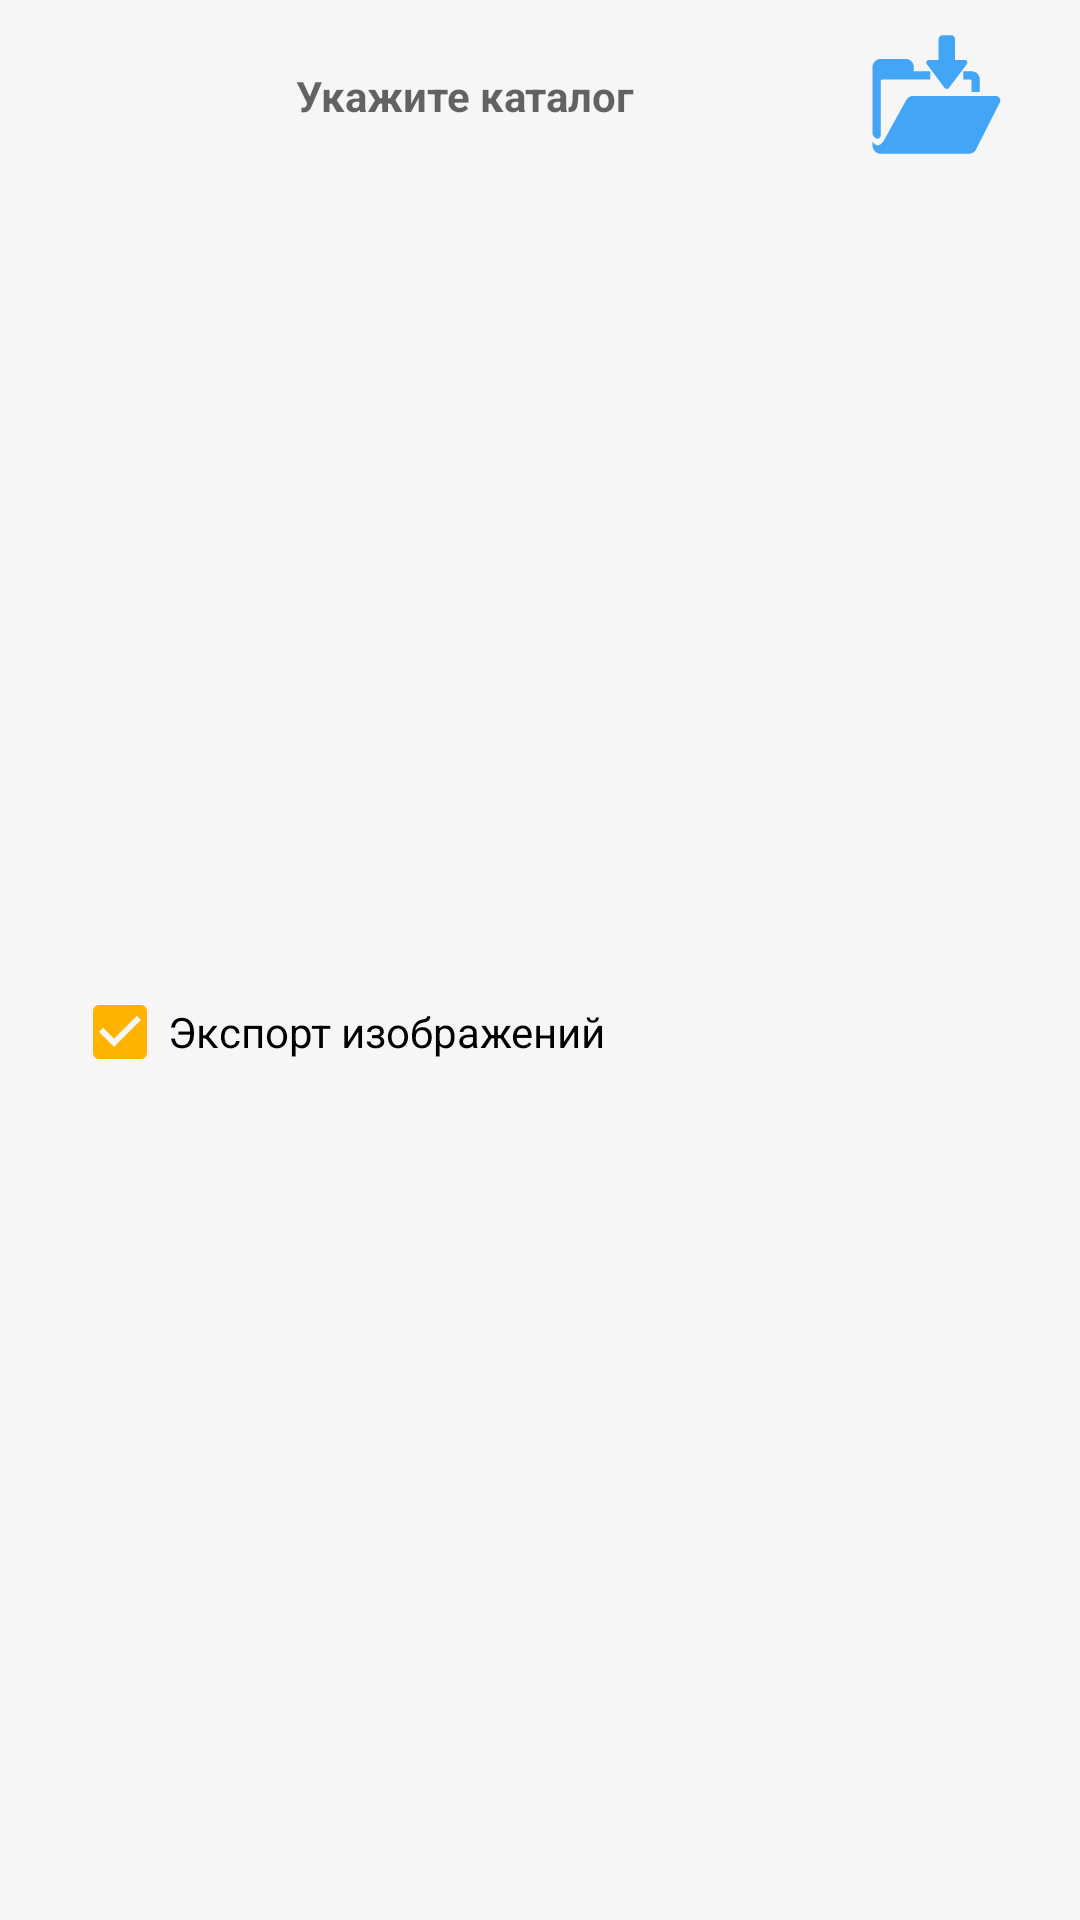

Named icons in this screenshot (1080 × 1920) and their bounding boxes, [x1, y1, x2, y2]:
select in: [872, 35, 1001, 154]
